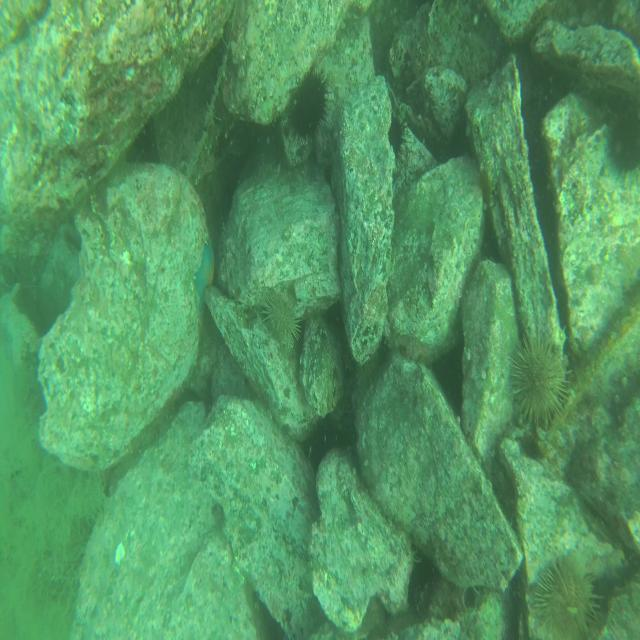echinus: (535, 554, 599, 640), (511, 335, 562, 425), (291, 65, 327, 137), (262, 285, 300, 352)
starfish: (196, 240, 216, 314)
